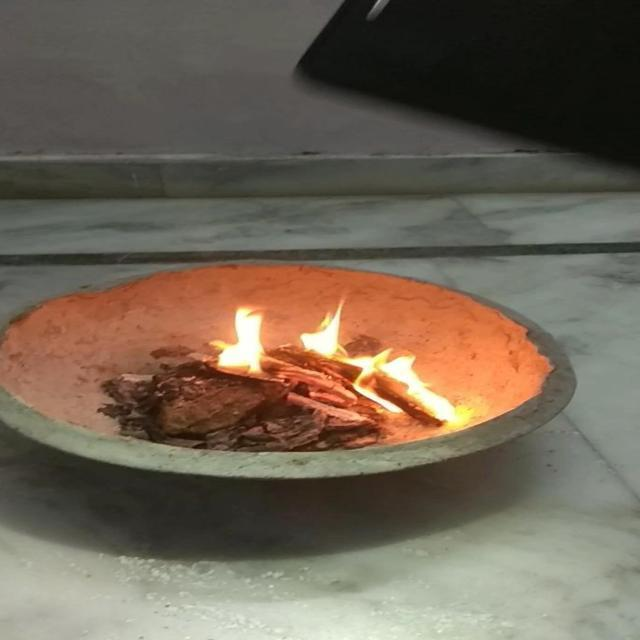smoke: (351, 348, 462, 421), (296, 286, 356, 361), (210, 304, 272, 376)
